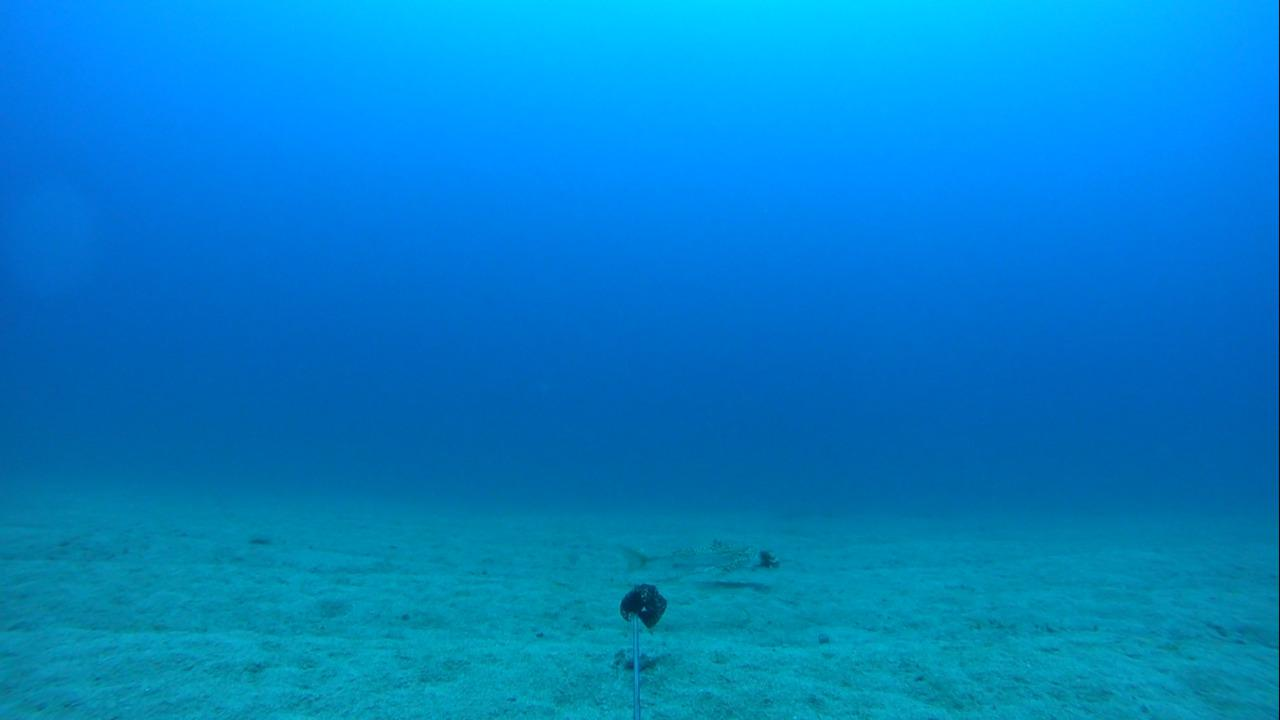dactylopterus: (599, 533, 779, 582)
